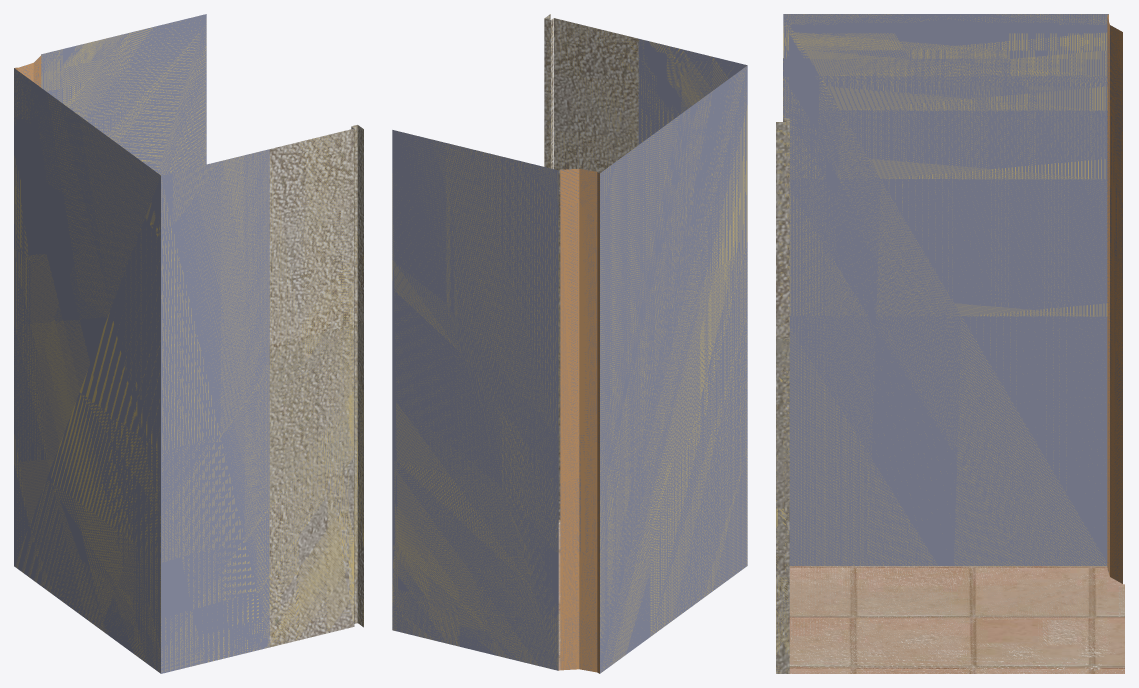
File: DES020.obj
3 views of the same model, side by side, from view 1: azimuth 30°, elevation 25°; view 2: azimuth 150°, elevation 25°; view 3: azimuth 270°, elevation 25° (orthographic). The views are drawn at different scales.
Visible parts, largest first — view 1: Mesh1 DES020 Model; view 2: Mesh1 DES020 Model; view 3: Mesh1 DES020 Model.
Boxes of the visible parts, x1,y1,x2,y2 form: Mesh1 DES020 Model: [14, 14, 363, 673]; Mesh1 DES020 Model: [392, 14, 747, 673]; Mesh1 DES020 Model: [776, 14, 1124, 673].
Bounding box in the file's own units: 1.51 × 3.6 × 2.06.
5 materials, 2 textured.
